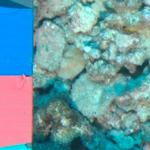alive: (35, 2, 146, 146)
